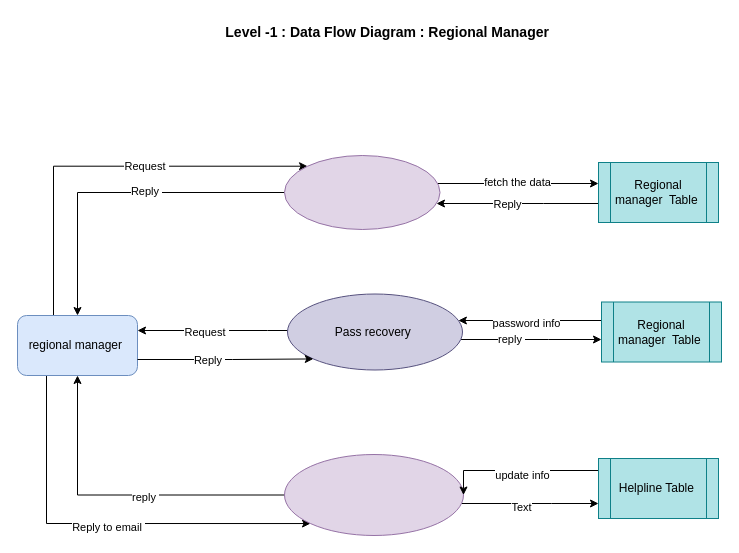
Some shapes in this 739 by 553 pixel diagram are drawn without their labels. Each missing label, with the centre of its shape:
"login" belongs at point 362,192.
"Resolves issues via email with admin/ user" belongs at point 374,495.
